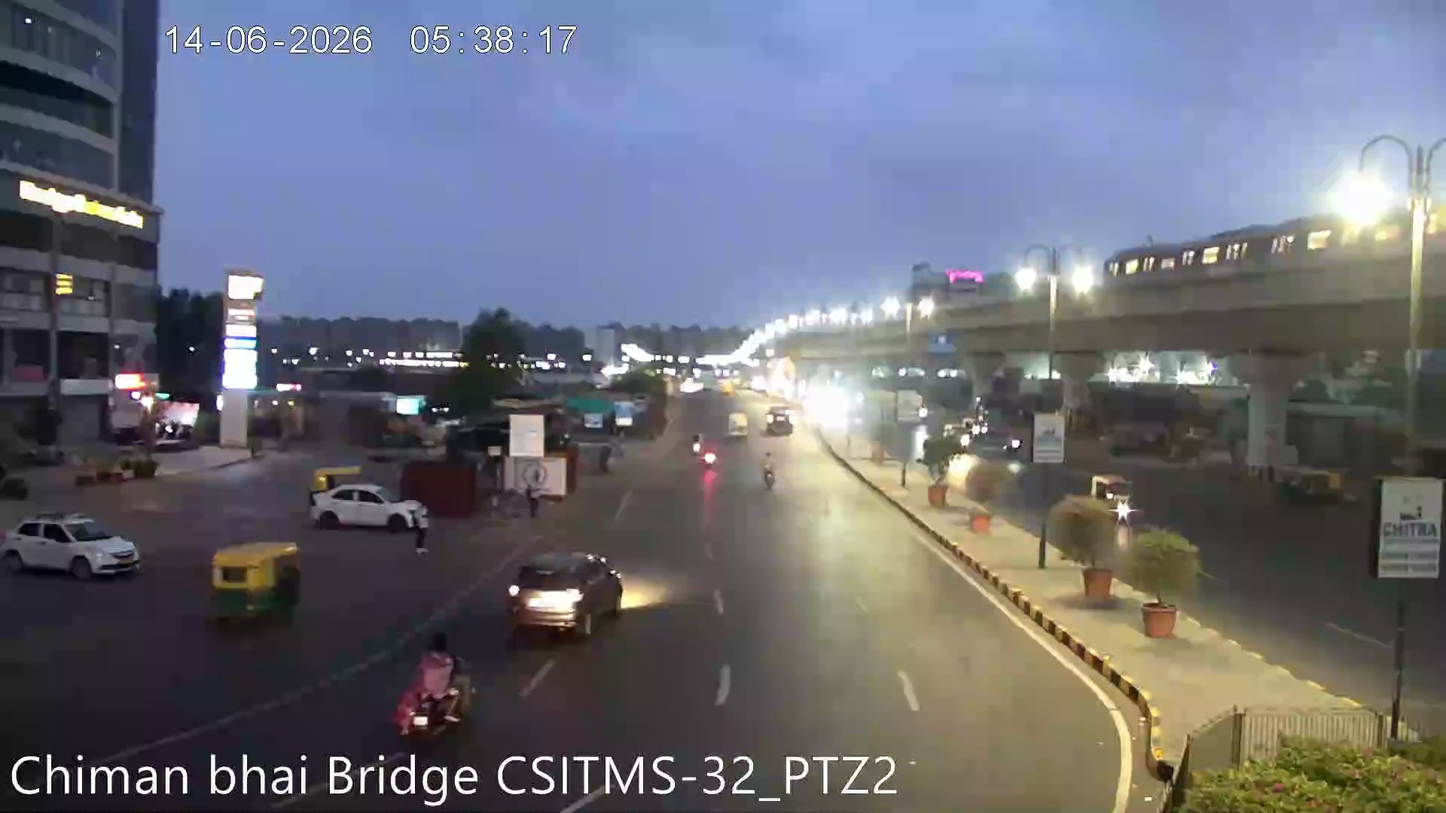auto_rickshaw: (205, 537, 306, 628), (1083, 468, 1141, 531), (1277, 463, 1348, 509), (764, 403, 795, 434), (725, 408, 751, 438)
car: (0, 504, 145, 582), (503, 546, 630, 635), (307, 475, 431, 536)
two_wheeler: (388, 635, 484, 742), (688, 429, 719, 477), (695, 434, 724, 482), (756, 447, 782, 497), (687, 427, 713, 471)
